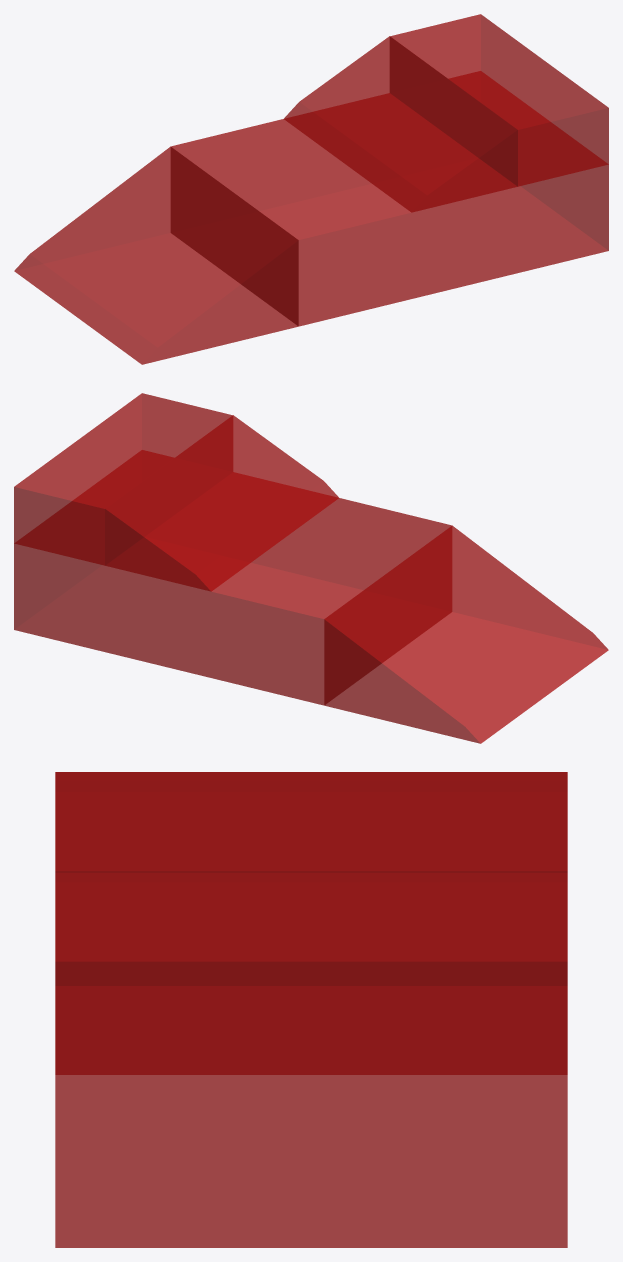
File: SM_Prop_LogPile_Preset_Large_03_Collision.fbx
The picture shows the model from 3 angles, top to bottom: view 1: azimuth 30°, elevation 25°; view 2: azimuth 150°, elevation 25°; view 3: azimuth 270°, elevation 25°; orthographic projection. The views are drawn at different scales.
Parts seen in each view (by area): view 1: SM_Prop_LogPile_Preset_Large_03_Collision; view 2: SM_Prop_LogPile_Preset_Large_03_Collision; view 3: SM_Prop_LogPile_Preset_Large_03_Collision.
Part boxes in pixels (<box>): SM_Prop_LogPile_Preset_Large_03_Collision: <box>14,14,608,364</box>; SM_Prop_LogPile_Preset_Large_03_Collision: <box>14,393,608,743</box>; SM_Prop_LogPile_Preset_Large_03_Collision: <box>55,772,567,1247</box>.
Size of the model in its own units: 2056 by 603 by 977.
